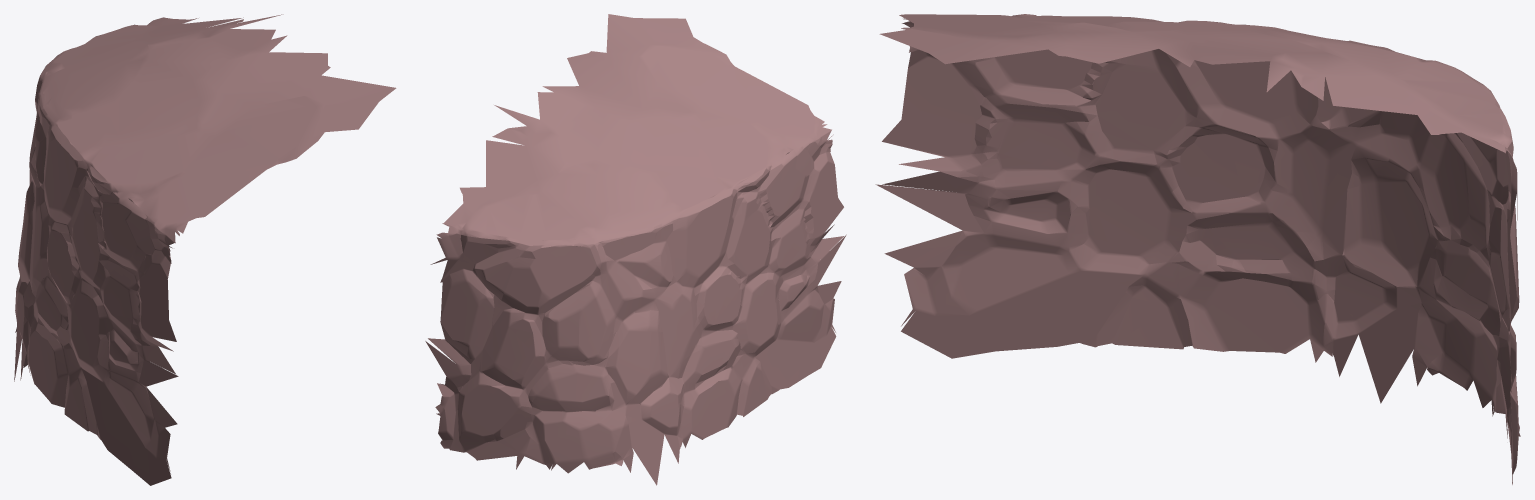
File: plateau.fbx_Rock_Plateau_015LODs.fbx
3 views of the same model, side by side, from view 1: azimuth 30°, elevation 25°; view 2: azimuth 150°, elevation 25°; view 3: azimuth 270°, elevation 25° (orthographic). The views are drawn at different scales.
Parts seen in each view (by area): view 1: Rock Plateau.015_LOD0; view 2: Rock Plateau.015_LOD0; view 3: Rock Plateau.015_LOD0.
Part boxes in pixels (<box>): Rock Plateau.015_LOD0: <box>14,14,396,485</box>; Rock Plateau.015_LOD0: <box>425,14,846,485</box>; Rock Plateau.015_LOD0: <box>875,14,1520,484</box>.
Size of what is drawn, in the model's own units: 3069 by 4143 by 5033.
